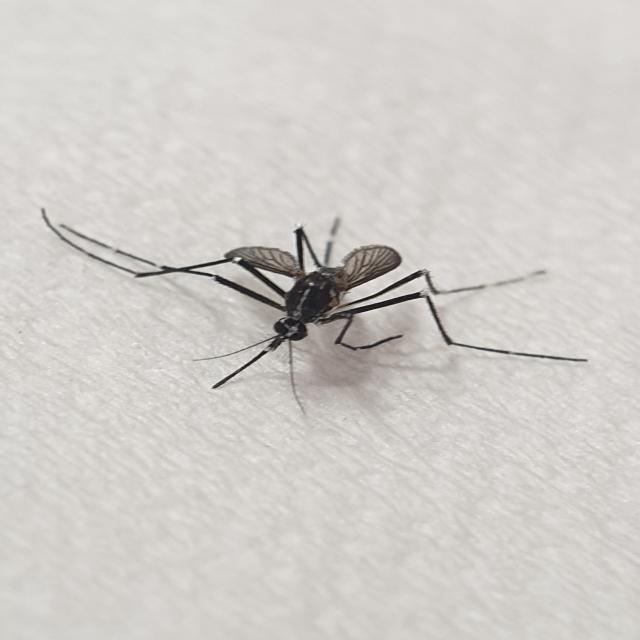albopictus: (39, 184, 561, 416)
